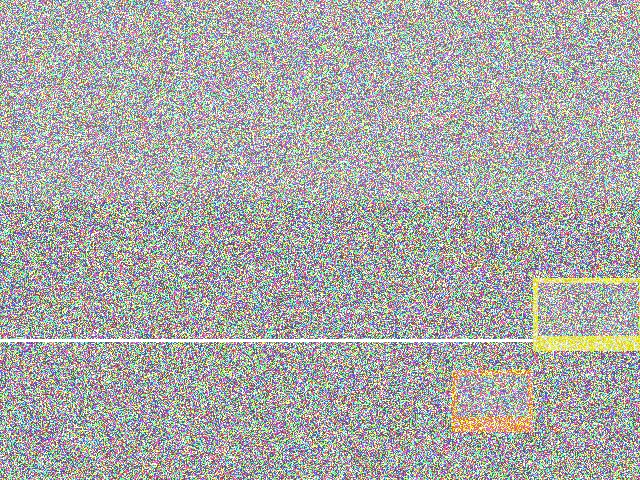bus: (483, 123, 640, 210)
motorcycle: (453, 259, 621, 309)
truck: (450, 183, 582, 293)
